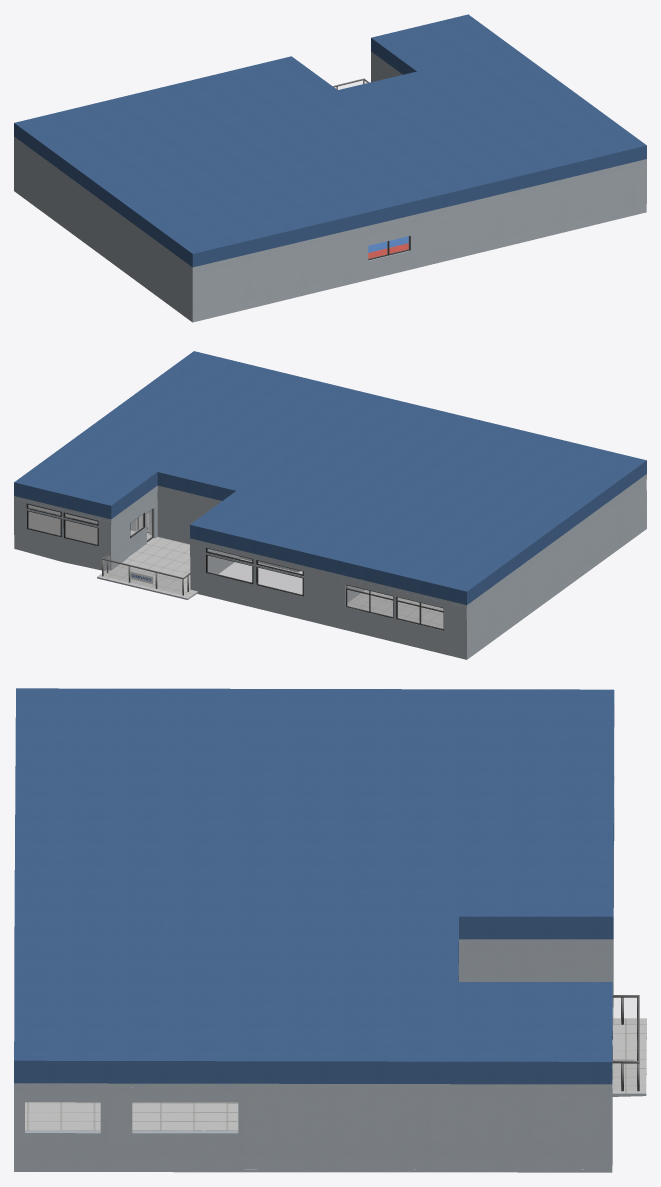
The model's file is Deportivo-P1OP.glb.
The picture shows the model from 3 angles, top to bottom: view 1: azimuth 30°, elevation 25°; view 2: azimuth 150°, elevation 25°; view 3: azimuth 270°, elevation 25°; orthographic projection. The views are drawn at different scales.
Visible parts, largest first — view 1: Techo_DP1, Paredes_DP1, PuertasS_DP1, Logitos; view 2: Techo_DP1, Paredes_DP1, PuertasS_DP1, Piso_DP1; view 3: Techo_DP1, Paredes_DP1, Piso_DP1, PuertasS_DP1.
Boxes of the visible parts, x1,y1,x2,y2 form: Techo_DP1: (14, 14, 646, 272); Paredes_DP1: (14, 57, 646, 322); PuertasS_DP1: (335, 81, 409, 258); Logitos: (368, 236, 408, 258); Techo_DP1: (14, 351, 646, 610); Paredes_DP1: (14, 480, 646, 659); PuertasS_DP1: (28, 505, 443, 629); Piso_DP1: (97, 530, 443, 628); Techo_DP1: (14, 688, 646, 1096); Paredes_DP1: (14, 727, 639, 1172); Piso_DP1: (25, 1018, 646, 1169); PuertasS_DP1: (613, 998, 636, 1090).
Size of the model in its own units: 0.2529 by 0.0372 by 0.1829.
12 materials, 12 textured.
